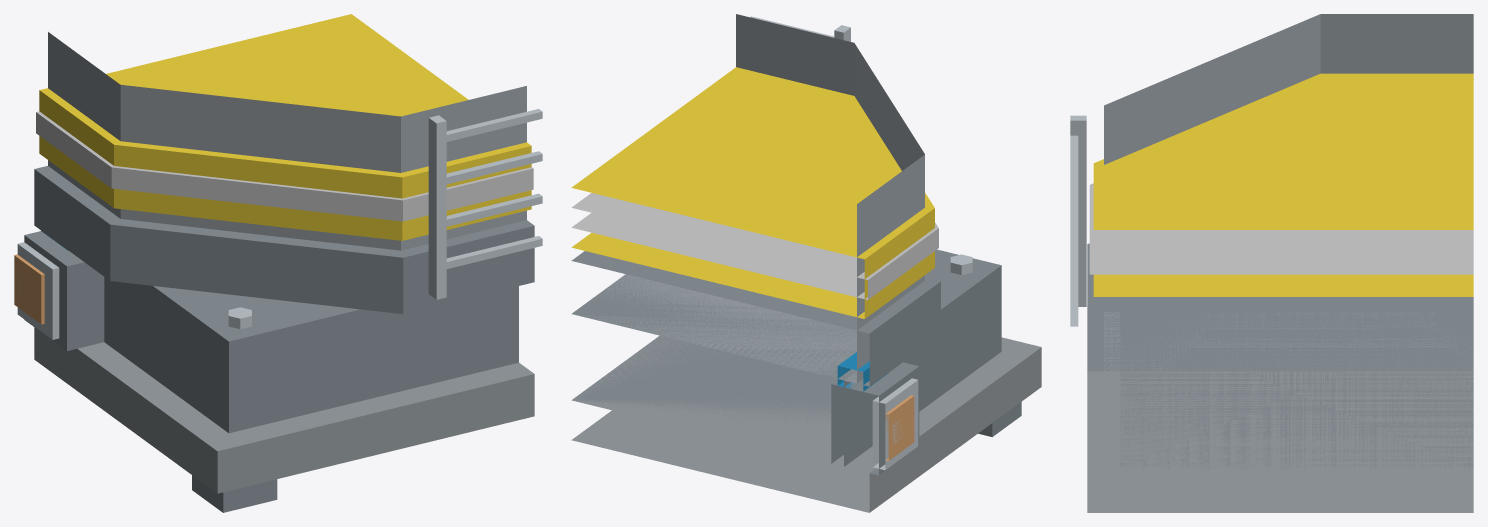
File: cell_2.obj
3 renders of one model, left to right at view 1: azimuth 30°, elevation 25°; view 2: azimuth 150°, elevation 25°; view 3: azimuth 270°, elevation 25°, orthographic. The views are drawn at different scales.
Size of the model in its own units: 1 by 1 by 0.982.
